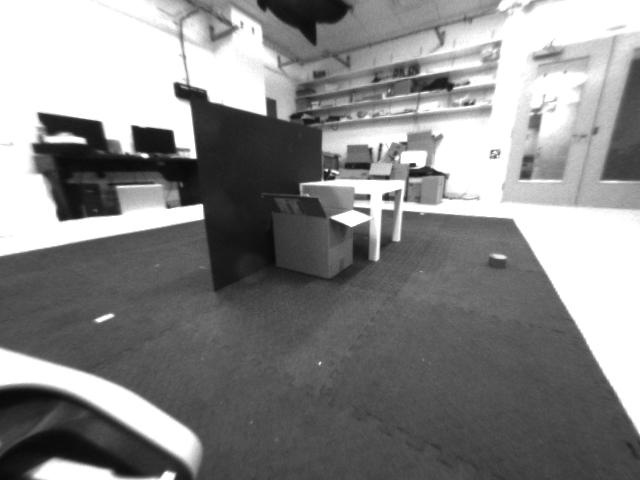dogtoy: (474, 237, 512, 279)
